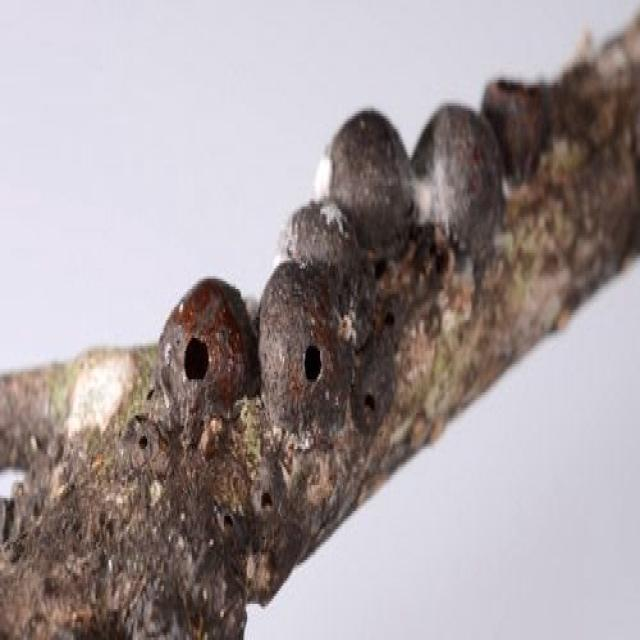BlackScale: (156, 72, 553, 454)
